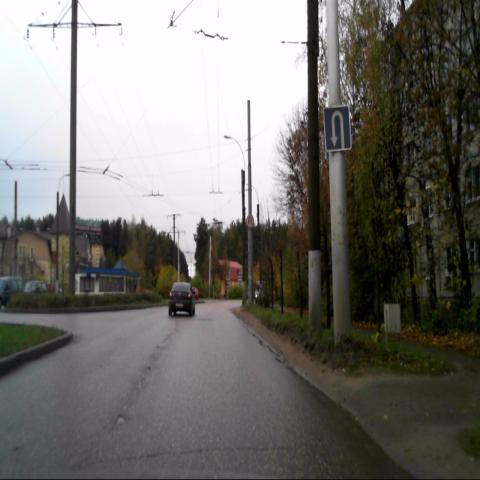6_3_1: (324, 106, 352, 152)
